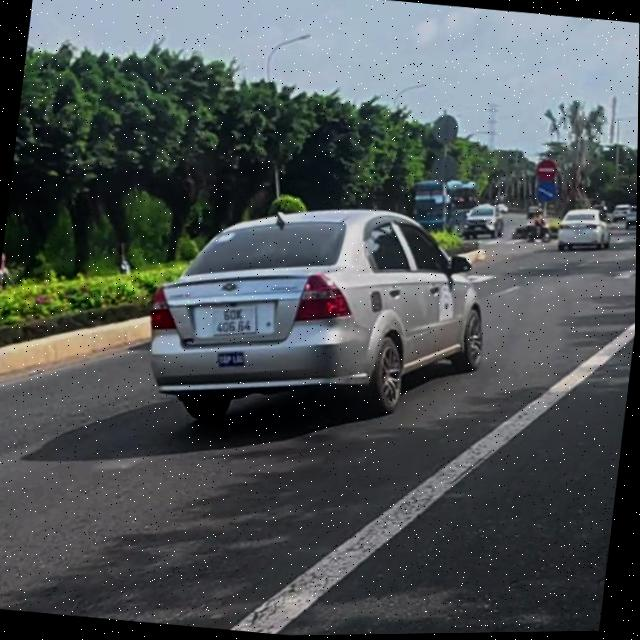car: (135, 186, 502, 453), (552, 199, 614, 256), (457, 196, 506, 241)
plate: (202, 296, 266, 339)
